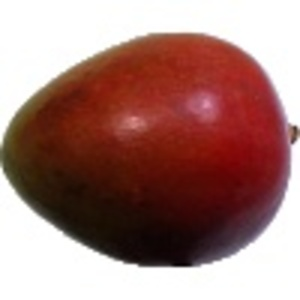manga: (1, 31, 300, 267)
